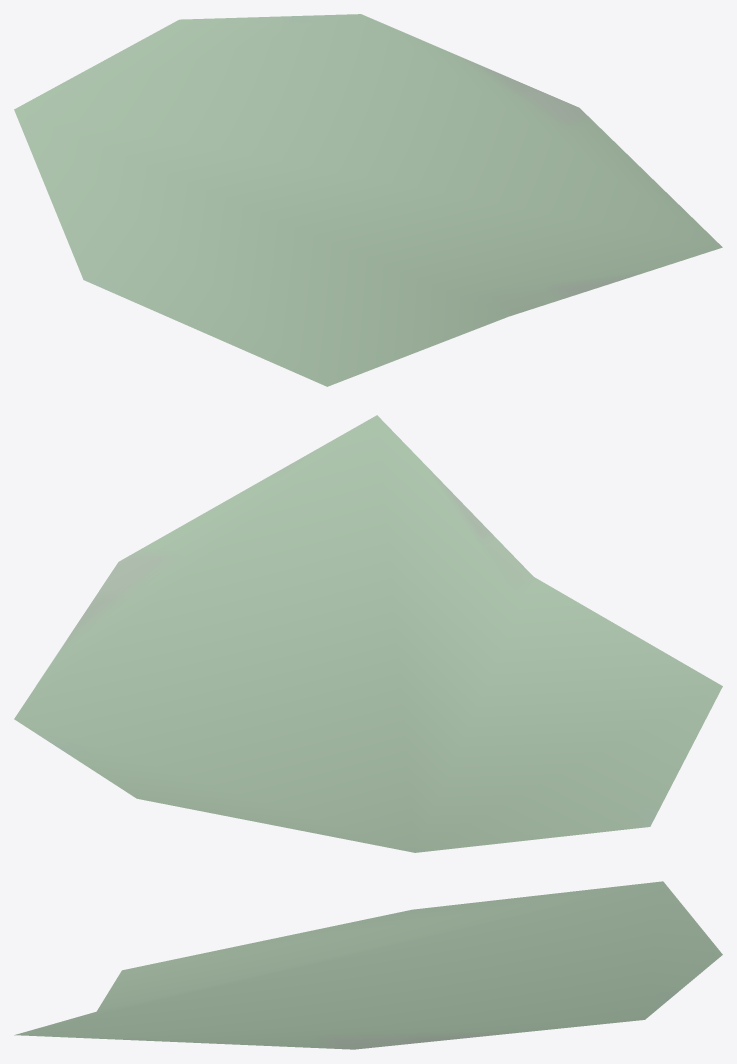
The model's file is TROLLHOLE02_HOLECAP61.fbx.
3 views of the same model, one above another, from view 1: azimuth 30°, elevation 25°; view 2: azimuth 150°, elevation 25°; view 3: azimuth 270°, elevation 25° (orthographic). The views are drawn at different scales.
Parts seen in each view (by area): view 1: TROLLHOLE02_HOLECAP61; view 2: TROLLHOLE02_HOLECAP61; view 3: TROLLHOLE02_HOLECAP61.
Part boxes in pixels (x1,y1,x2,y2): TROLLHOLE02_HOLECAP61: [14, 14, 722, 386]; TROLLHOLE02_HOLECAP61: [14, 415, 722, 852]; TROLLHOLE02_HOLECAP61: [14, 881, 722, 1049].
Bounding box in the file's own units: 13215 × 2695 × 18199.
1 material, 1 textured.
